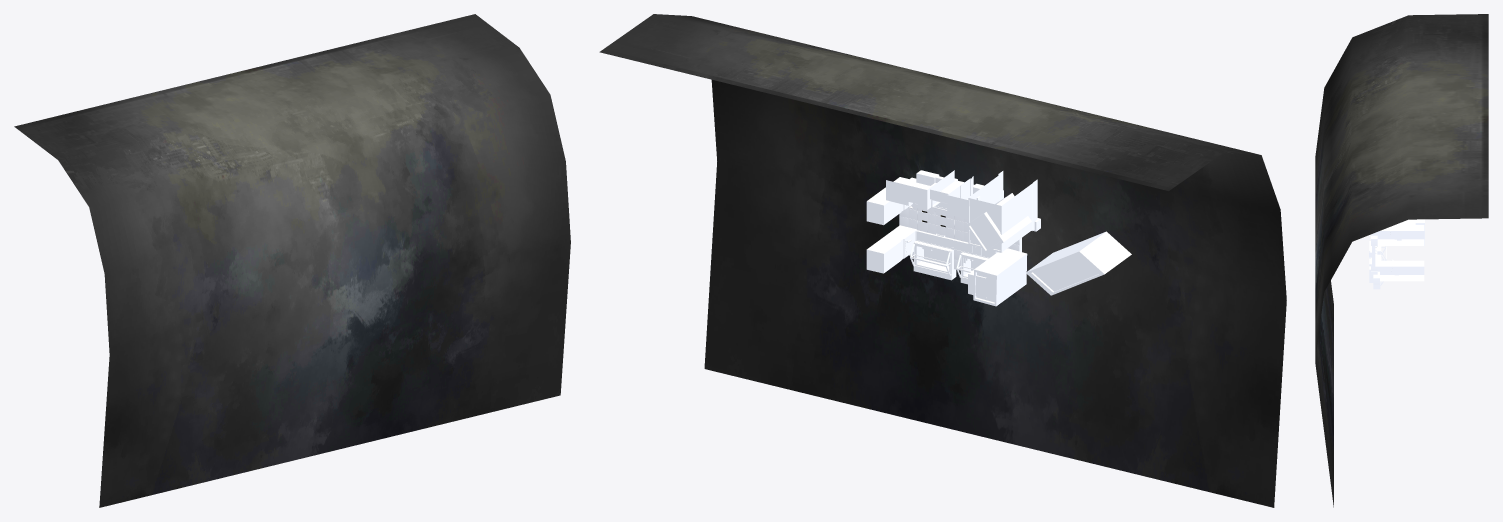
Rendered from BATTLE.fbx.
3 renders of one model, left to right at view 1: azimuth 30°, elevation 25°; view 2: azimuth 150°, elevation 25°; view 3: azimuth 270°, elevation 25°, orthographic. The views are drawn at different scales.
Visible parts, largest first — view 1: BG_Qcity; view 2: BG_Qcity, Shadow (5), S_Outworld_prop_0109, Shadow (4), S_Outworld_prop_0547, S_Outworld_prop_015, Shadow (1), OP_18, S_Outworld_prop_0442, S_Outworld_prop_0374; view 3: BG_Qcity, S_Outworld_prop_0547, S_Outworld_prop_0442.
Part boxes in pixels (x1,y1,x2,y2): BG_Qcity: (14,14,570,507); BG_Qcity: (599,14,1286,507); Shadow (5): (1026,231,1131,295); S_Outworld_prop_0109: (968,171,1037,252); Shadow (4): (973,248,1027,306); S_Outworld_prop_0547: (866,225,916,273); S_Outworld_prop_015: (886,170,954,210); Shadow (1): (966,193,1031,253); OP_18: (913,241,956,280); S_Outworld_prop_0442: (866,177,916,225); S_Outworld_prop_0374: (947,176,1001,219); BG_Qcity: (1315,14,1488,507); S_Outworld_prop_0547: (1375,260,1424,281); S_Outworld_prop_0442: (1377,225,1424,245).
Size of the model in its own units: 0.6164 by 0.4073 by 0.2212.
